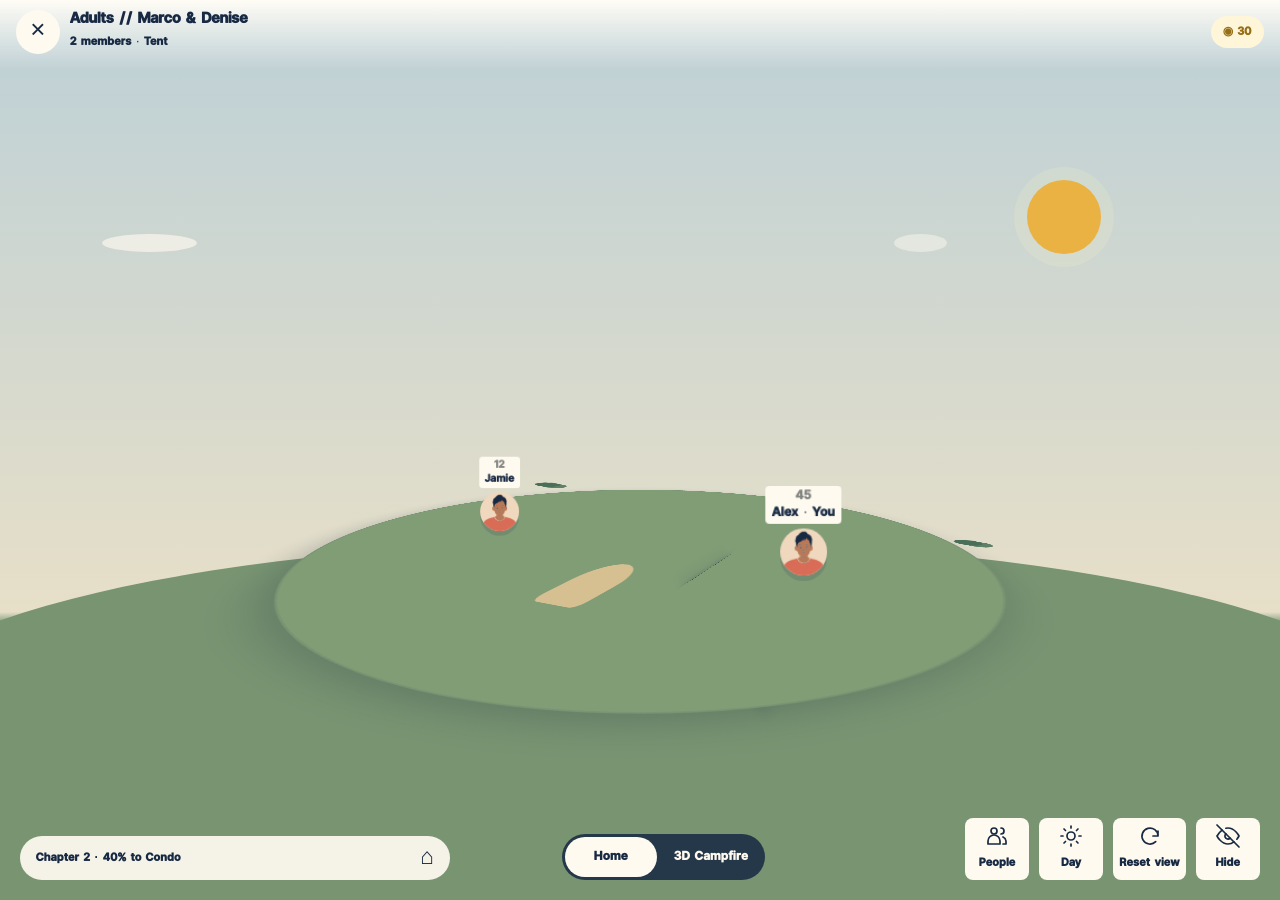
Test case: FullHome scene integration › hides controls for bare screenshot mode and provides an accessible restore mechanism via click and Escape
This screenshot has width=1280, height=900.
Check: the heading "Adults // Marco & Denise" is shown, box [70, 12, 248, 27]
Check: the button "Restore controls" is not shown
Hide controls
Step 1. Click the button with aria-label "Hide controls" → (1228, 849), box [1196, 818, 1260, 880]
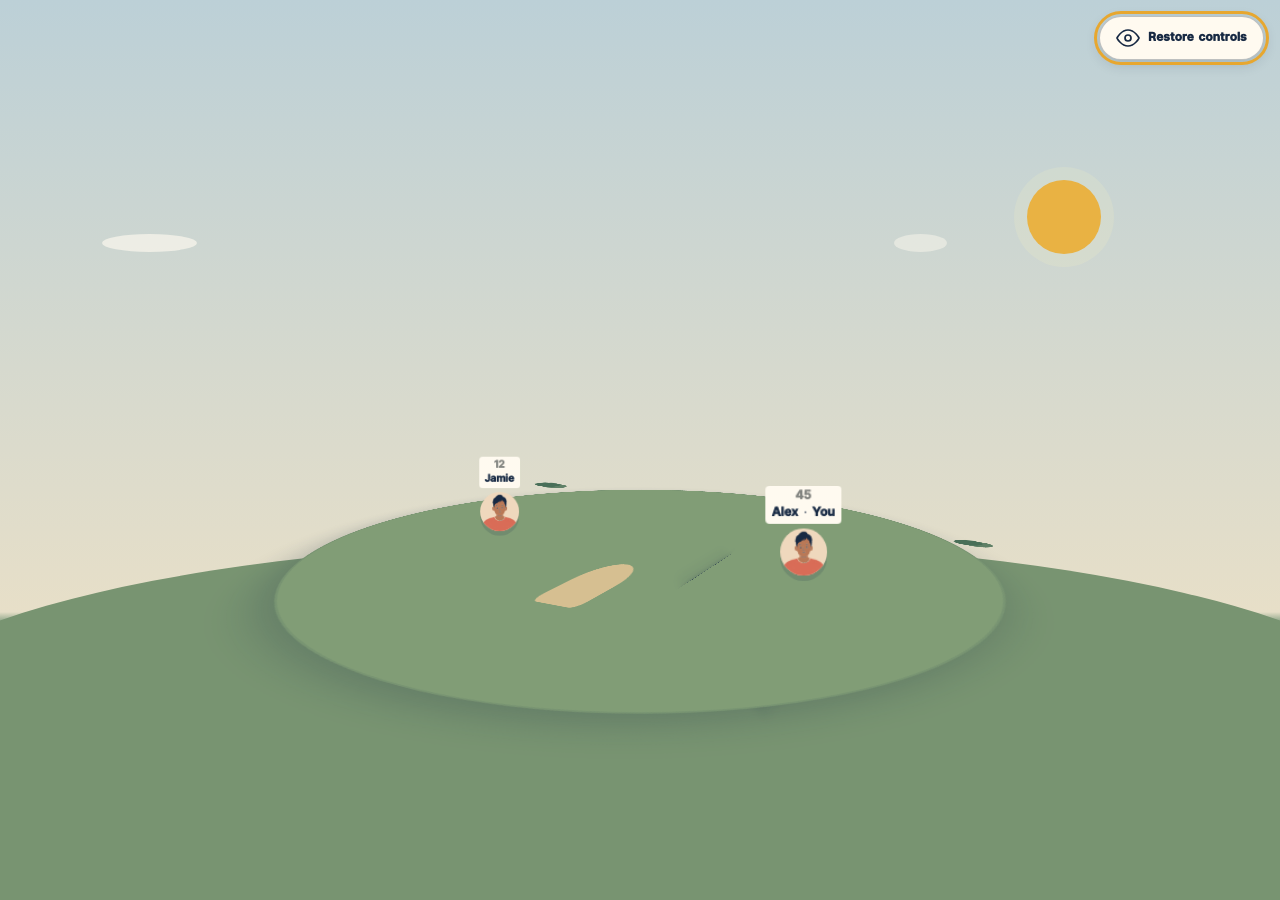
Check: the heading "Adults // Marco & Denise" is gone
Check: the button "Restore controls" is shown
Restore via click
Step 2. Click the button "Restore controls" → (1182, 38), box [1100, 16, 1264, 60]
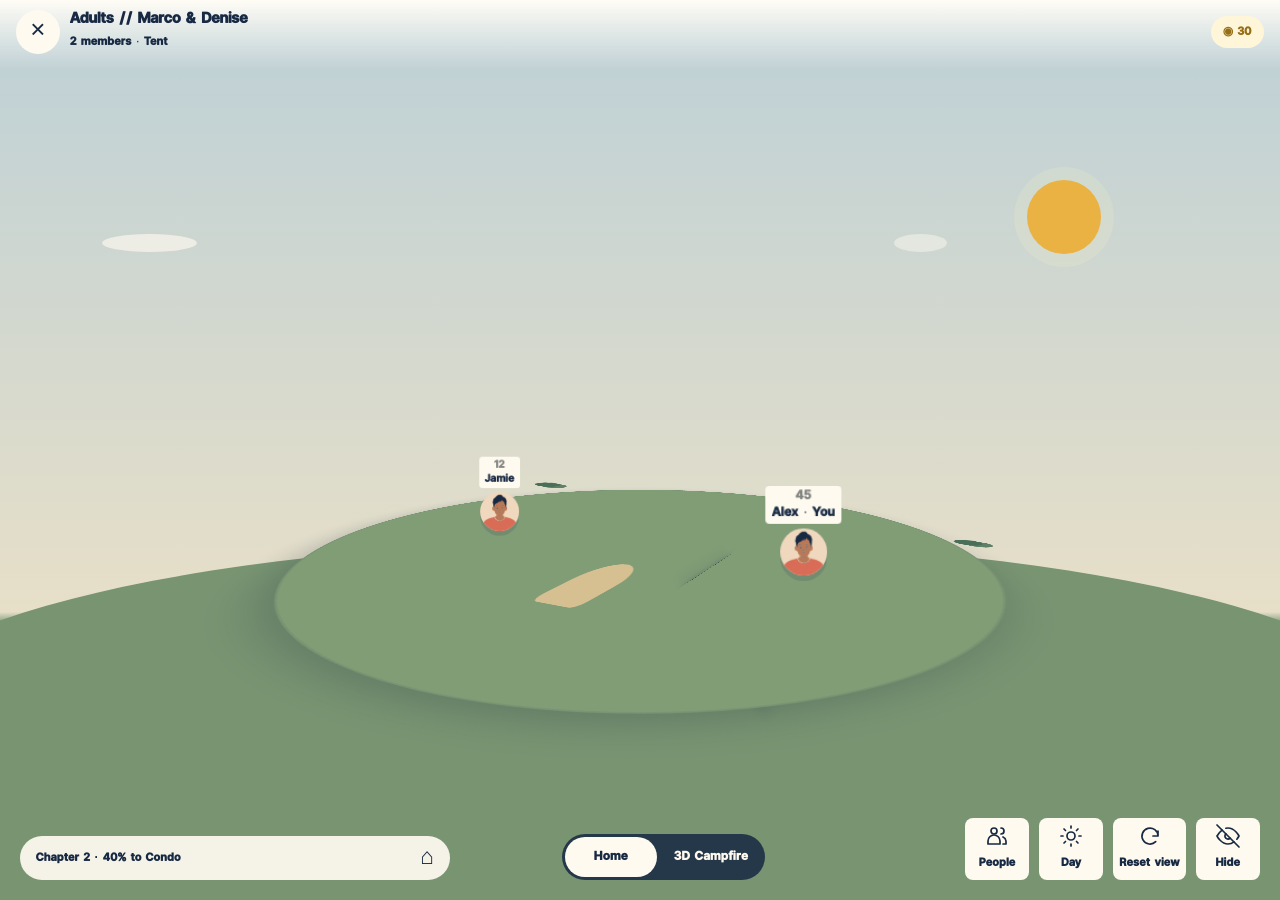
Check: the heading "Adults // Marco & Denise" is shown, box [70, 12, 248, 27]
Check: the button "Restore controls" is gone
Step 3. Click the button with aria-label "Hide controls" → (1228, 849), box [1196, 818, 1260, 880]
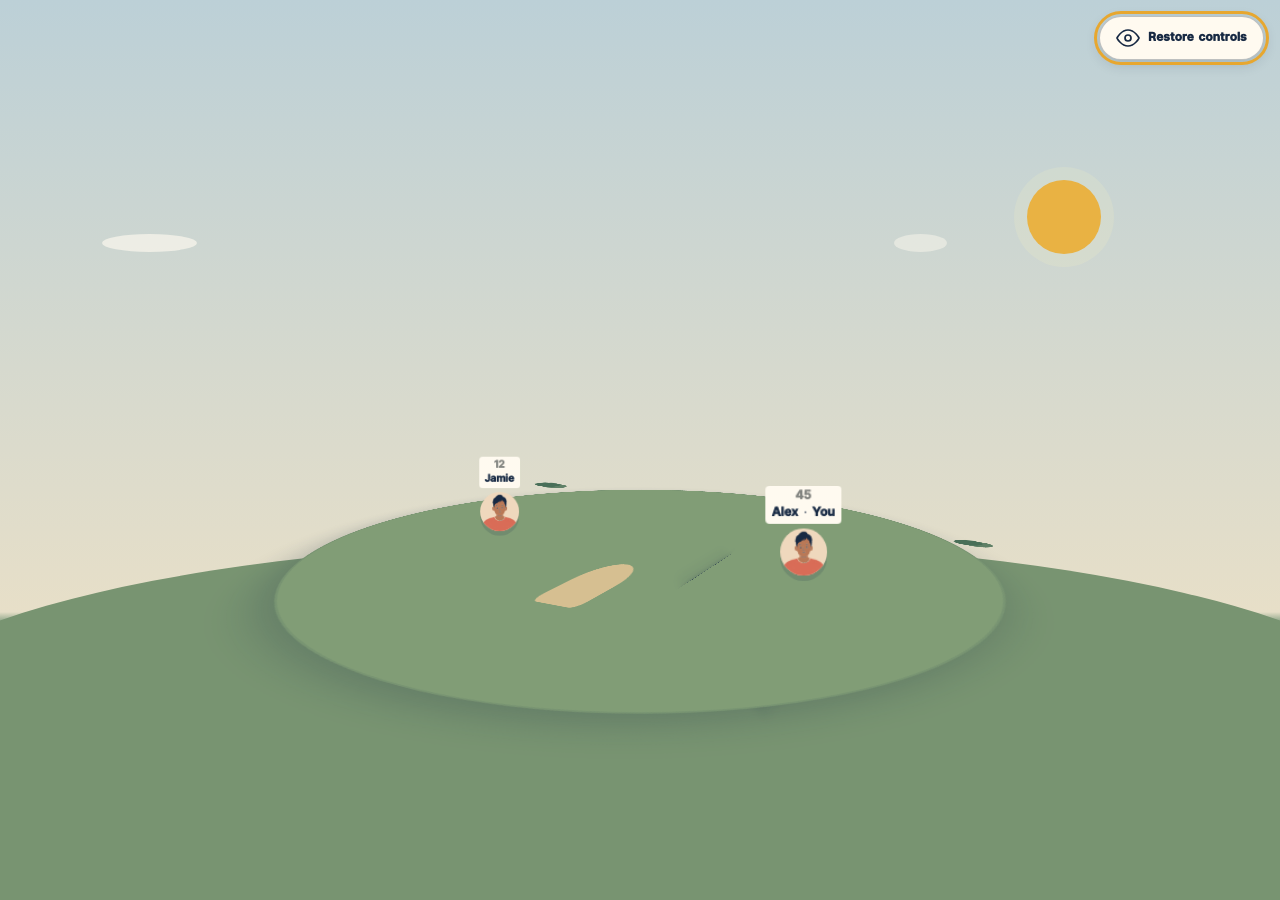
Check: the button "Restore controls" is shown
Step 4. Press Escape in the button "Restore controls", box [1100, 16, 1264, 60]
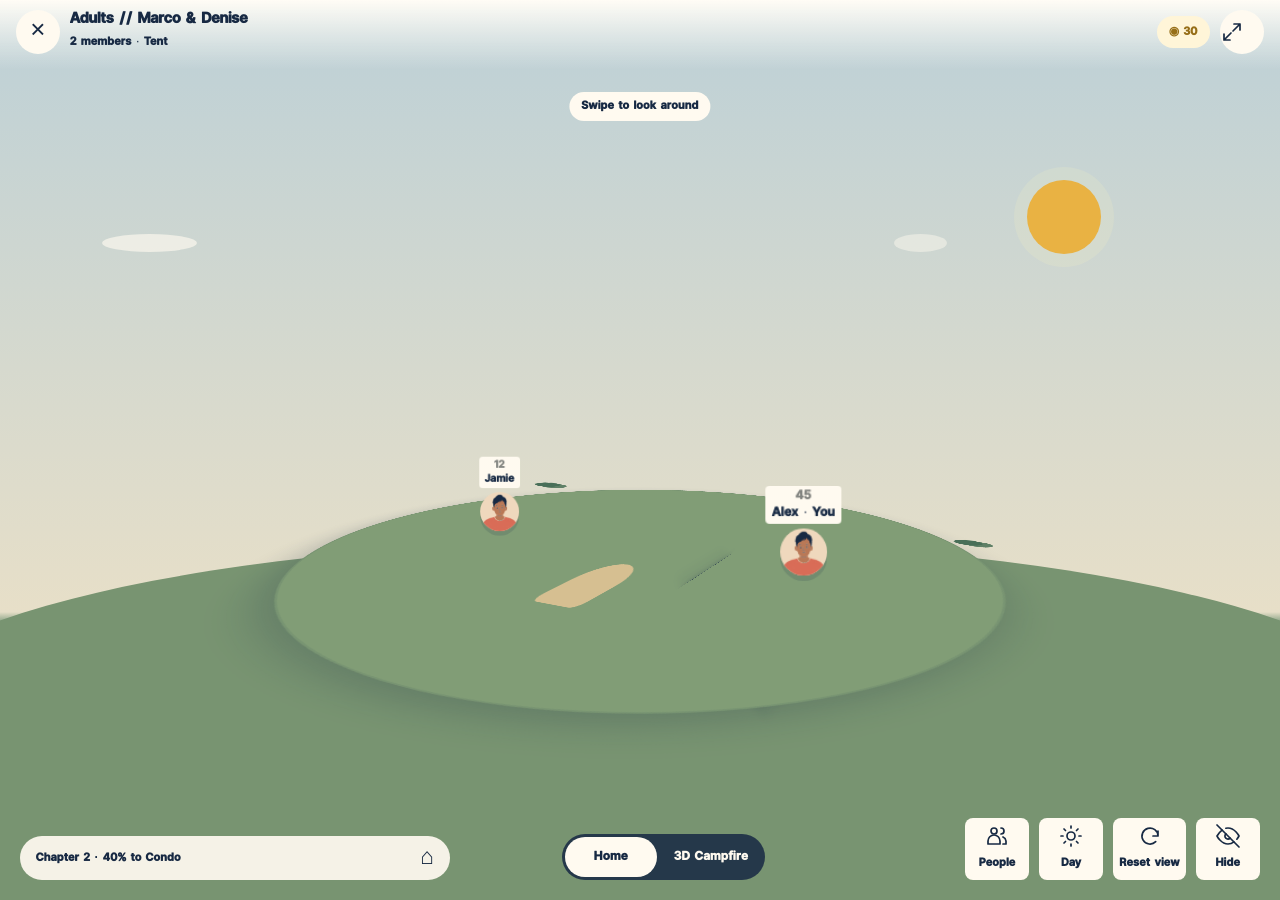
Check: the heading "Adults // Marco & Denise" is shown, box [70, 12, 248, 27]
Check: the button "Restore controls" is gone
